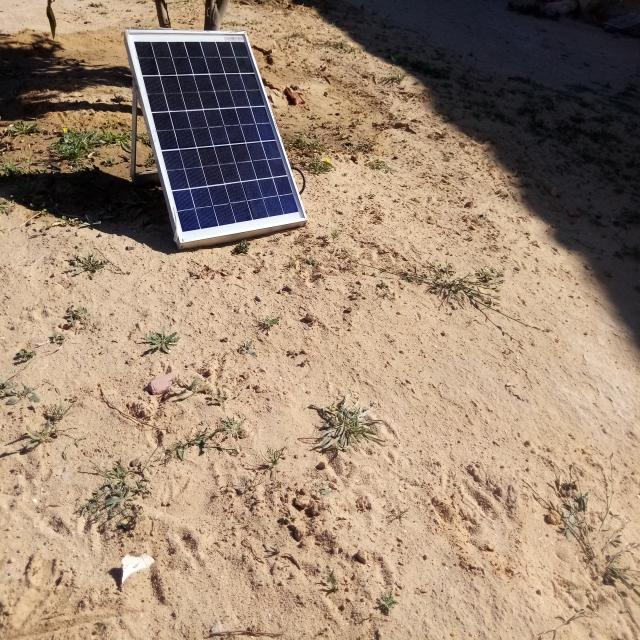Normal Solar Panel: (125, 32, 307, 244)
